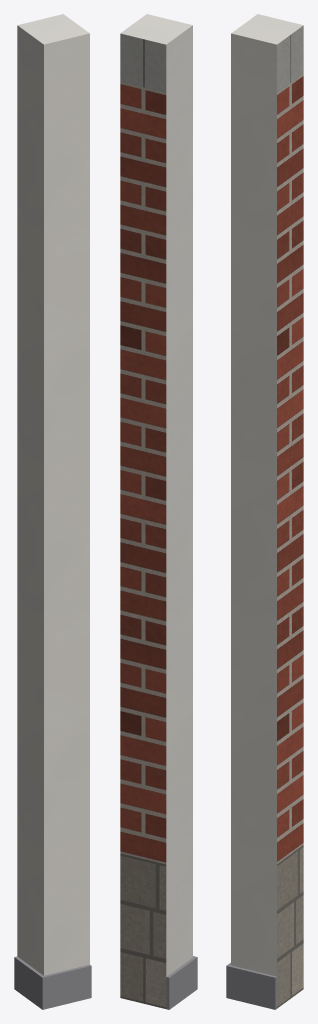
The model's file is wall_corner.glb.
3 views of the same model, side by side, from view 1: azimuth 30°, elevation 25°; view 2: azimuth 150°, elevation 25°; view 3: azimuth 330°, elevation 25° (orthographic).
Visible parts, largest first — view 1: wall_corner-col; view 2: wall_corner-col; view 3: wall_corner-col.
Part boxes in pixels (<box>): wall_corner-col: <box>14,14,91,1009</box>; wall_corner-col: <box>120,14,197,1009</box>; wall_corner-col: <box>226,14,303,1009</box>.
Bounding box in the file's own units: 0.16 × 3 × 0.16.
5 materials, 4 textured.
